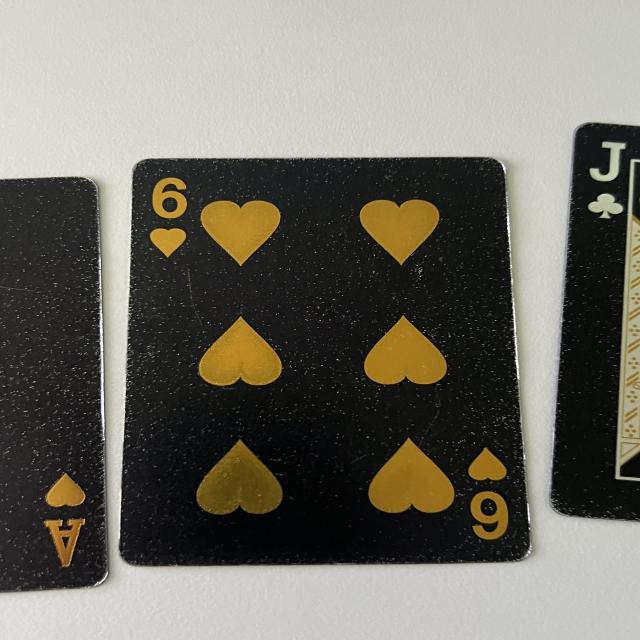6H: (464, 441, 520, 548), (143, 176, 195, 260)
AH: (35, 468, 96, 574)
JC: (574, 133, 628, 220)
